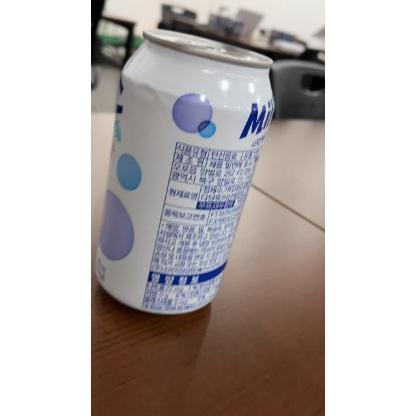Can: (93, 26, 279, 322)
